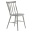chair: (3, 1, 28, 32)
